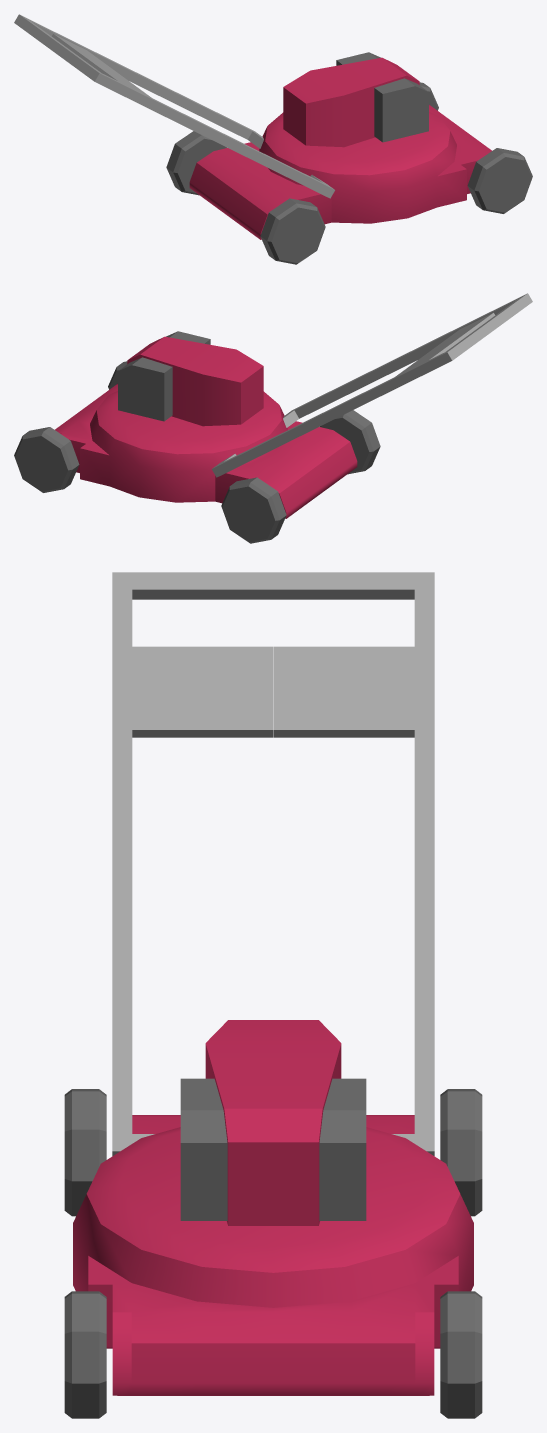
File: Mower.fbx
3 views of the same model, one above another, from view 1: azimuth 30°, elevation 25°; view 2: azimuth 150°, elevation 25°; view 3: azimuth 270°, elevation 25° (orthographic). The views are drawn at different scales.
Parts seen in each view (by area): view 1: group2_pCylinder6, group2_pCylinder10, group2_pCylinder9; view 2: group2_pCylinder6, group2_pCylinder10, group2_pCylinder9; view 3: group2_pCylinder6, group2_pCylinder9, group2_pCylinder10.
Boxes of the visible parts, box(x1,y1,x2,y2) form: group2_pCylinder6: box(14, 14, 491, 239); group2_pCylinder10: box(166, 131, 325, 264); group2_pCylinder9: box(419, 82, 532, 213); group2_pCylinder6: box(55, 293, 532, 518); group2_pCylinder10: box(221, 410, 380, 543); group2_pCylinder9: box(14, 361, 127, 492); group2_pCylinder6: box(73, 572, 473, 1395); group2_pCylinder9: box(64, 1291, 482, 1418); group2_pCylinder10: box(64, 1089, 482, 1216).
Size of the model in its own units: 49.53 by 25.39 by 20.93.
